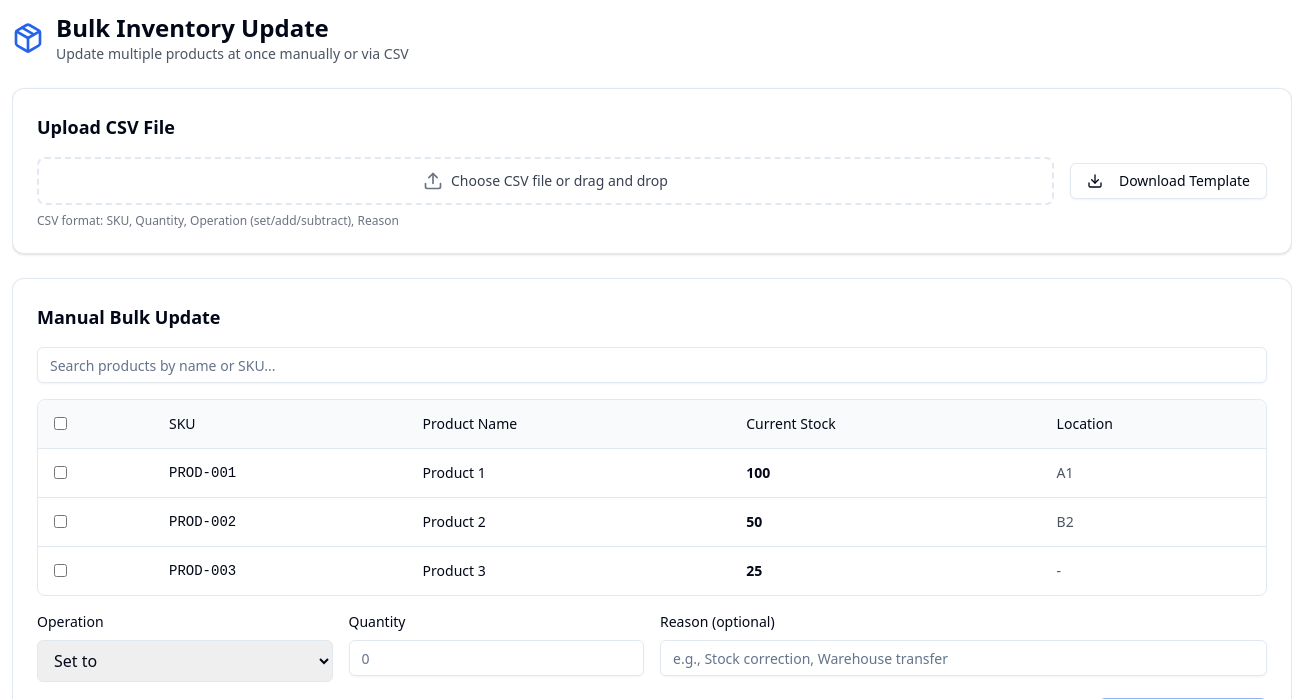
Test: BulkInventoryUpdate › filters products by search query
Expected: the text "Product 1" is shown, left=407, top=448, right=730, bottom=498
Expected: the text "Product 2" is shown, left=407, top=498, right=730, bottom=546
Type "Product 1" into the field with test id "search-input" at x=652, y=365, box left=37, top=347, right=1267, bottom=383
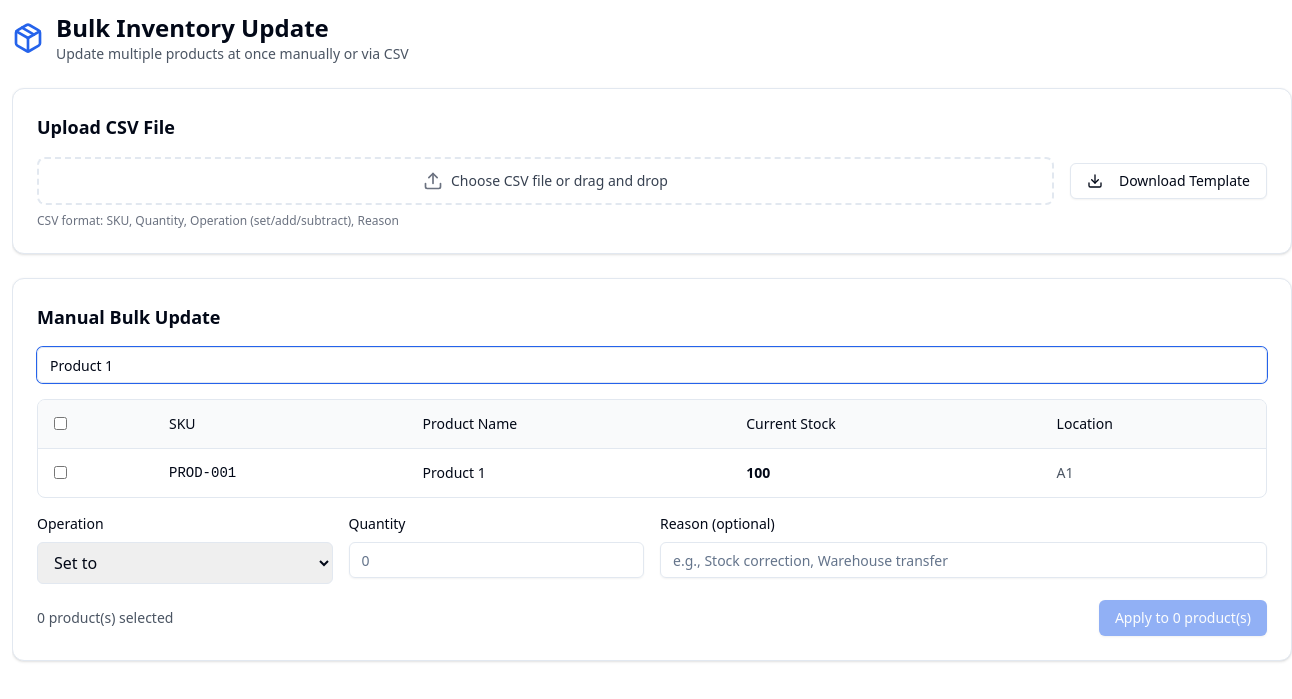
Expected: the text "Product 1" is shown, left=407, top=448, right=730, bottom=497
Result: the text "Product 2" is gone
